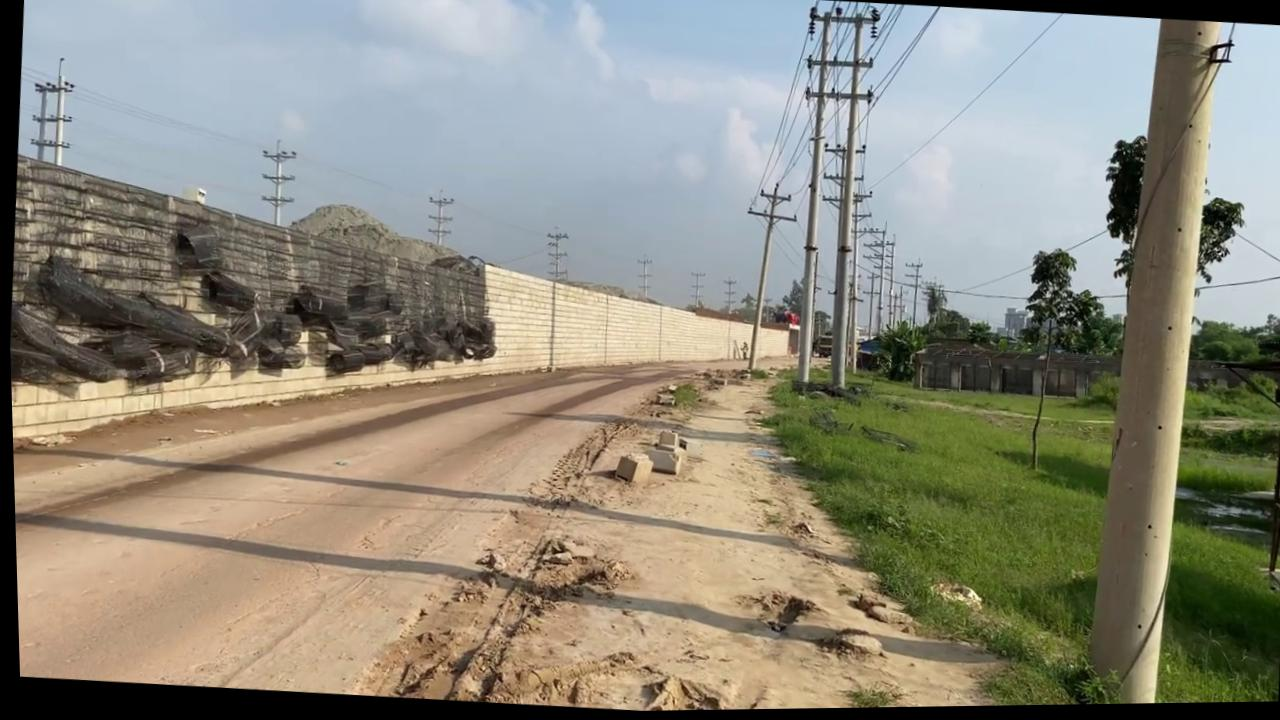Muddy road: (7, 299, 1023, 720)
Obstacle: (639, 429, 685, 477), (609, 451, 651, 488)
Pole: (1062, 19, 1245, 708), (814, 10, 884, 393), (780, 9, 843, 387)
Sidewalk: (1167, 484, 1279, 555)
Traffic-sign: (1093, 133, 1250, 307), (1008, 246, 1109, 476)
Upstairs: (3, 141, 805, 495)
